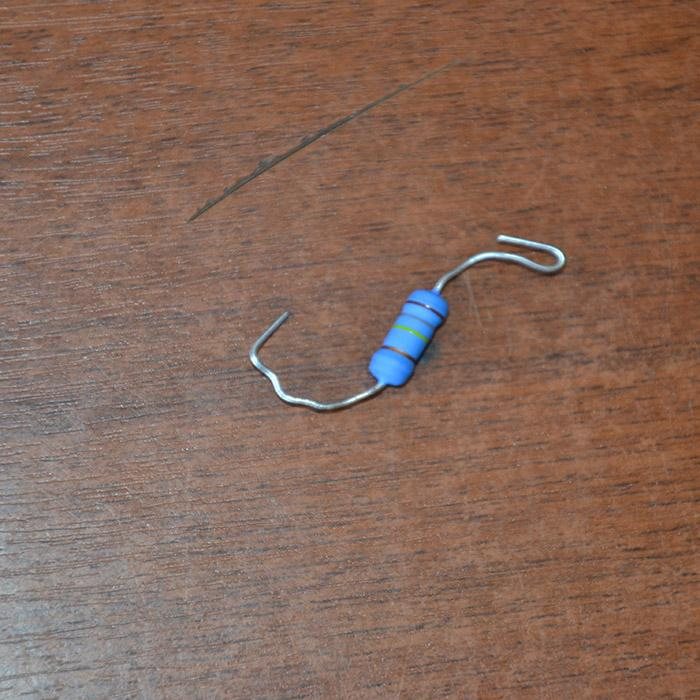resistor: (370, 288, 449, 387)
